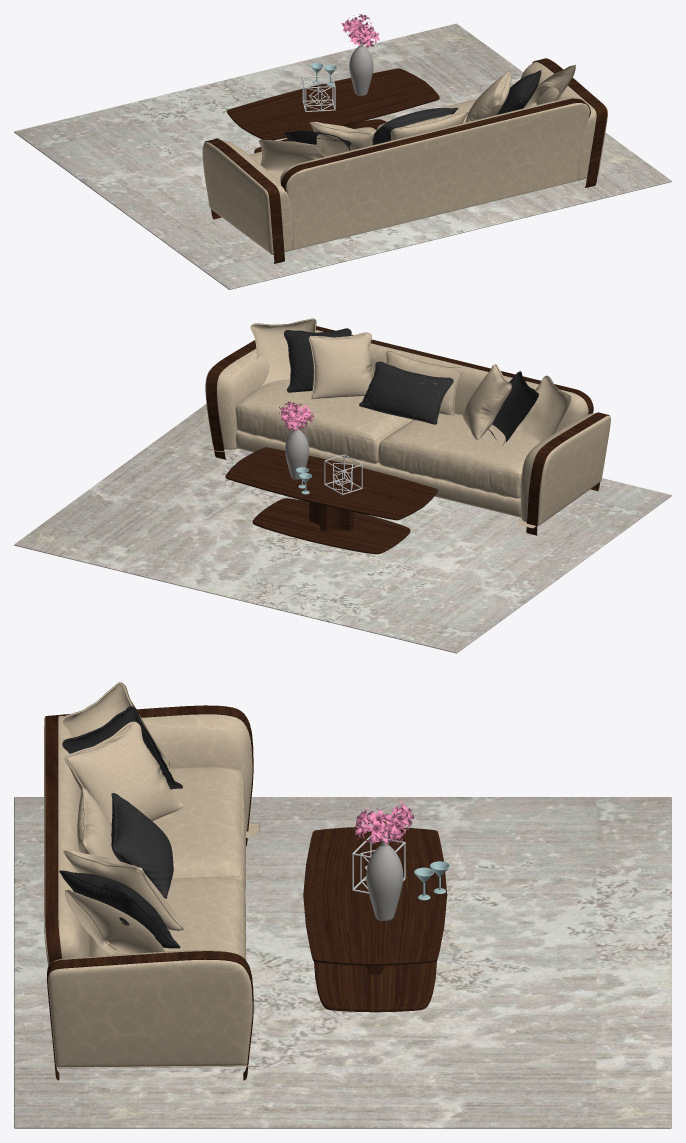
The model's file is sofa01.glb.
The picture shows the model from 3 angles, top to bottom: view 1: azimuth 30°, elevation 25°; view 2: azimuth 150°, elevation 25°; view 3: azimuth 270°, elevation 25°; orthographic projection. The views are drawn at different scales.
Parts seen in each view (by area): view 1: DavidHouse-Interior-033-2011_Sofa; view 2: DavidHouse-Interior-033-2011_Sofa; view 3: DavidHouse-Interior-033-2011_Sofa.
Part boxes in pixels (<box>): DavidHouse-Interior-033-2011_Sofa: <box>14,14,671,289</box>; DavidHouse-Interior-033-2011_Sofa: <box>14,318,671,653</box>; DavidHouse-Interior-033-2011_Sofa: <box>14,682,671,1128</box>.
Size of the model in its own units: 0.3365 by 0.0883 by 0.2832.
10 materials, 7 textured.
